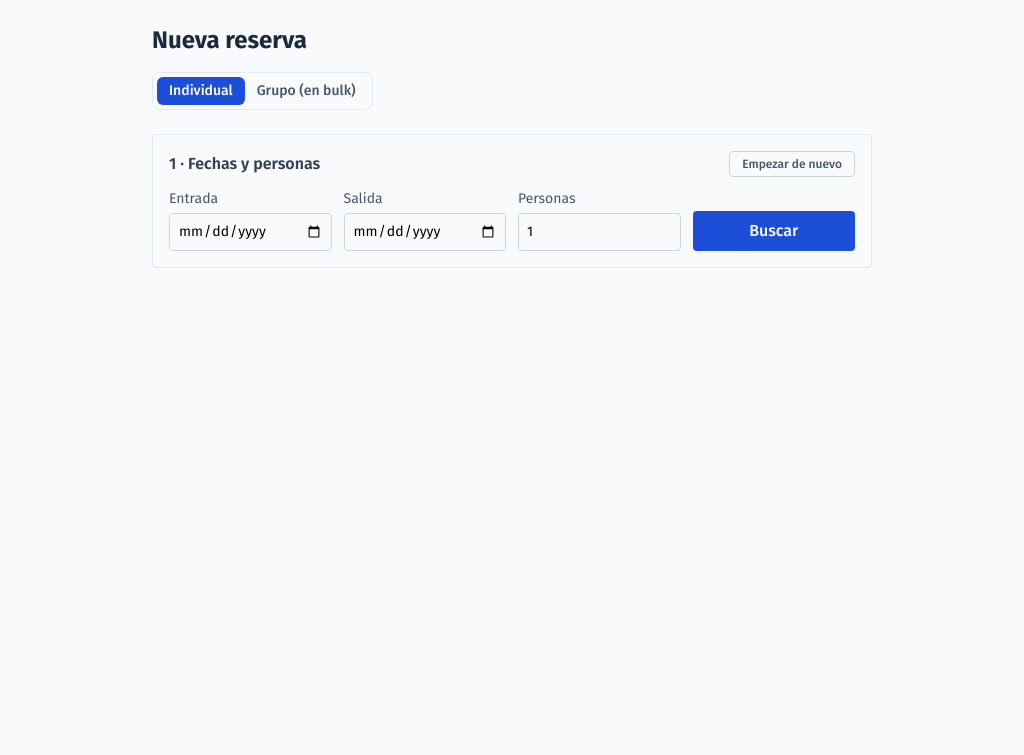
Test: NewReservationForm — modalidad de pago (R9.1, R9.2, decisión #339) › oculta el selector de modalidad de pago para role=reception
In the date field labelled "Entrada": (250, 232) [169,213,332,251], type "2026-10-01"
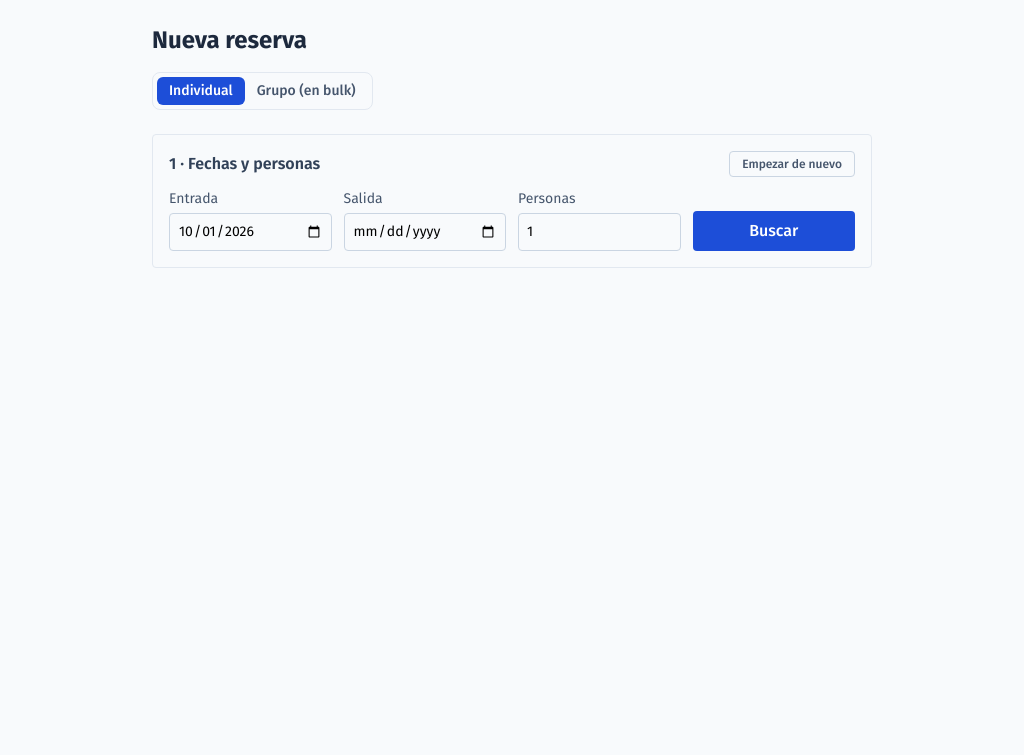
In the date field labelled "Salida": (425, 232) [344,213,506,251], type "2026-10-03"
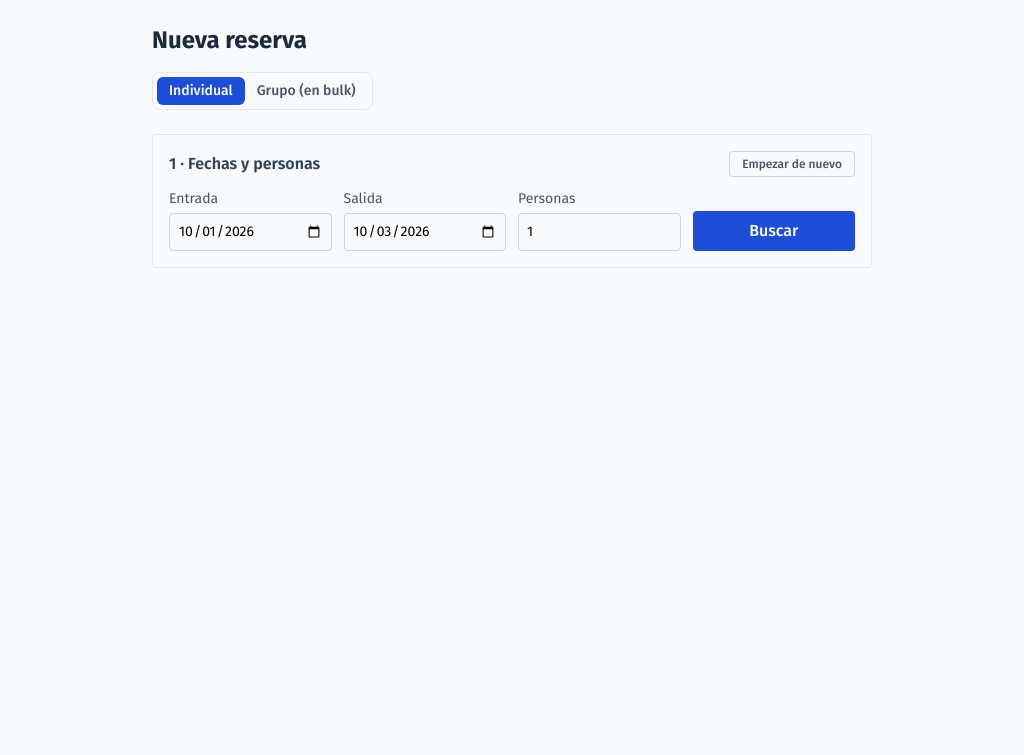
Click the button "Buscar": click(774, 231) [692,211,855,251]
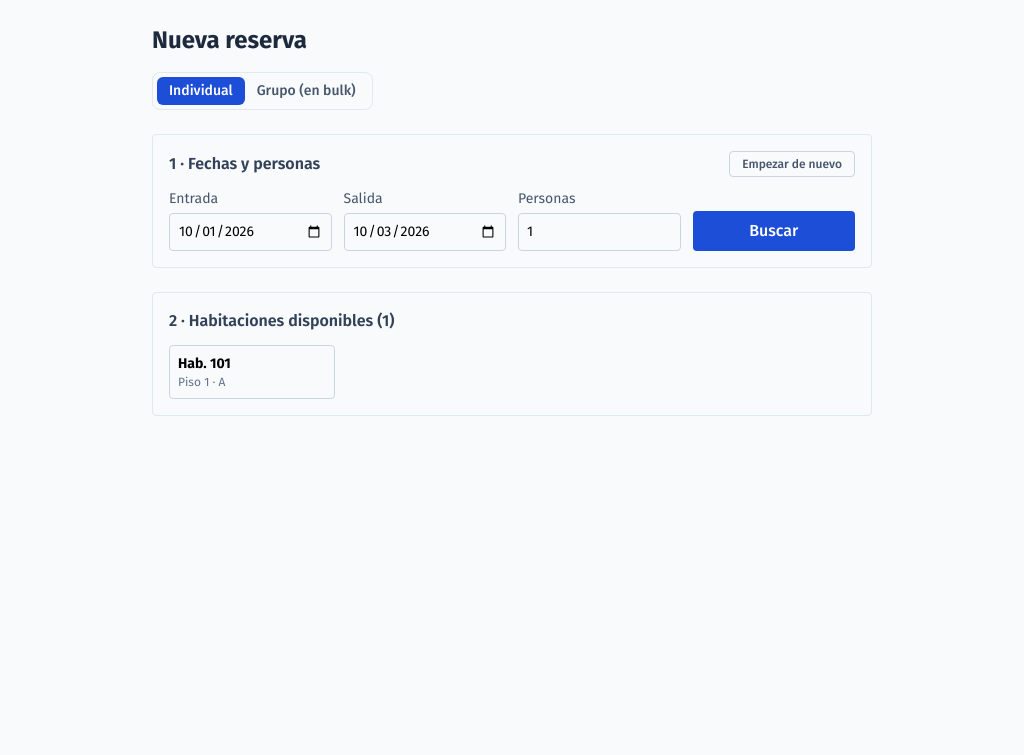
Expected: the text "Hab. 101" is shown, [178,355,231,372]
Click the button "Hab. 101 Piso 1 · A": click(252, 372) [169,345,334,399]
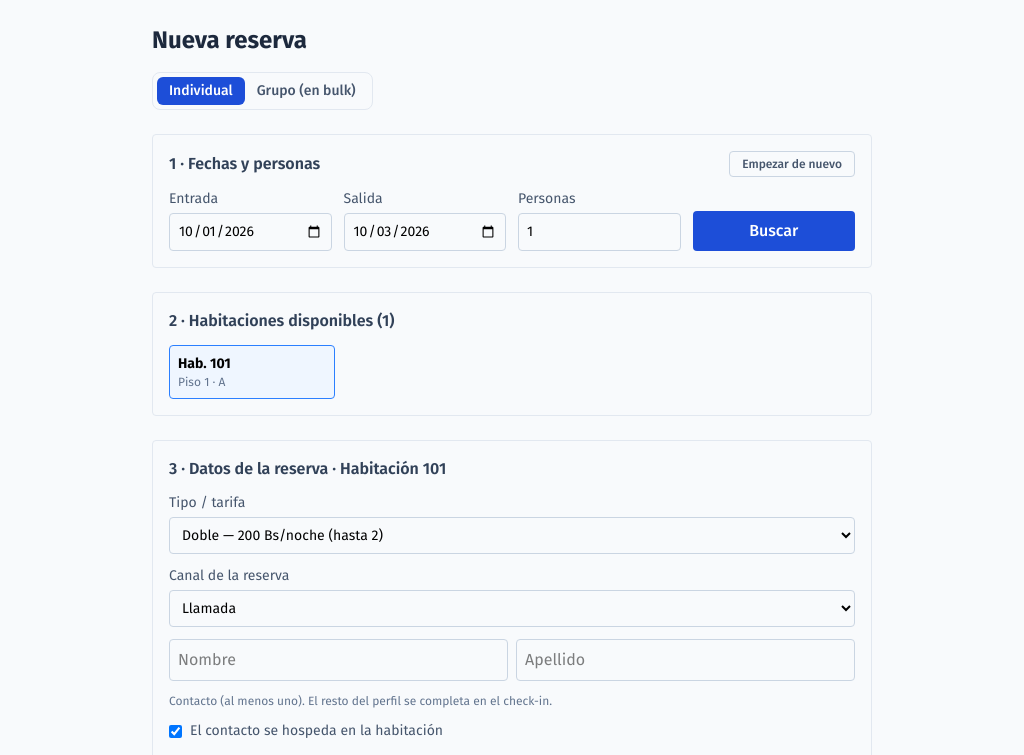
Expected: the heading "3 · Datos de la reserva · Habitación 101" is shown, [169,459,446,478]
